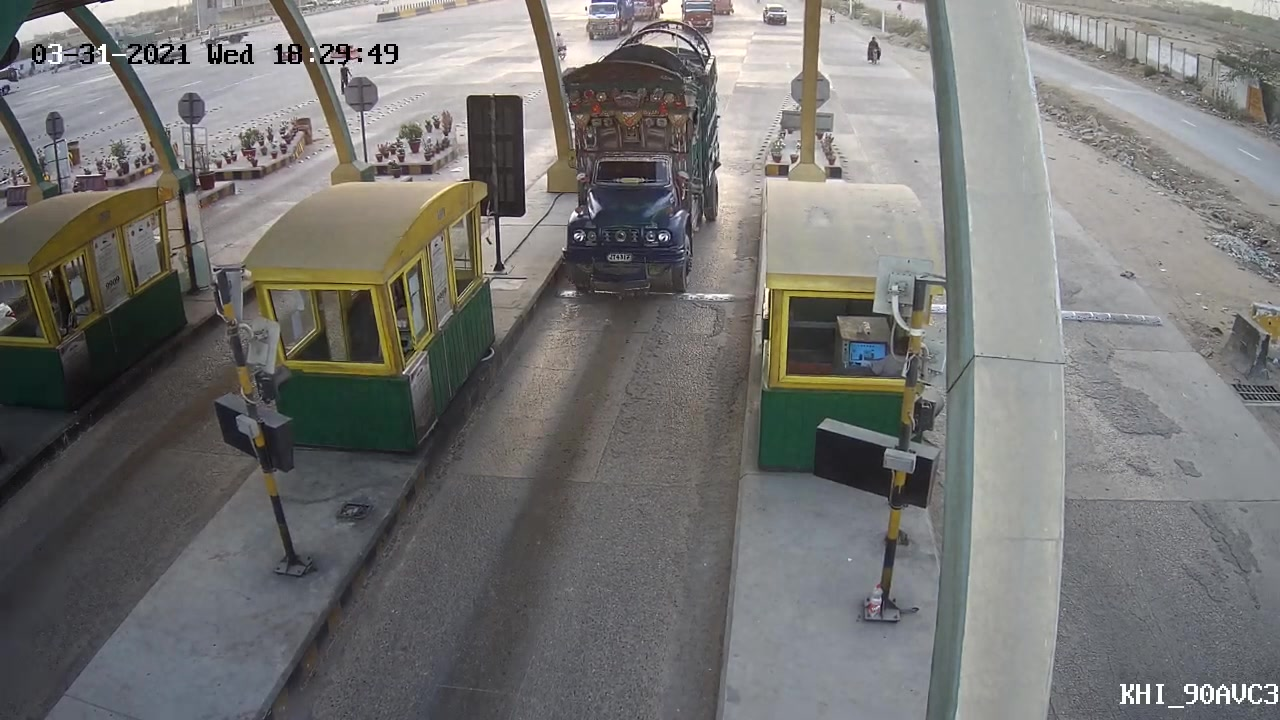F5: (544, 28, 736, 303)
